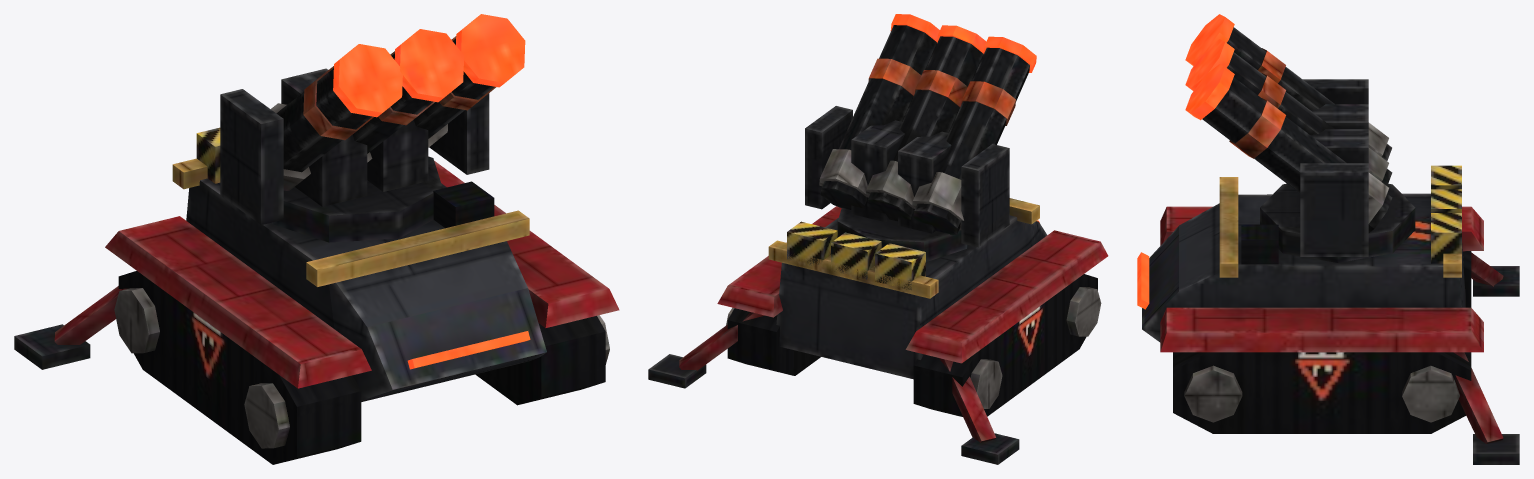
The model's file is u_mortar3_e.glb.
3 views of the same model, side by side, from view 1: azimuth 30°, elevation 25°; view 2: azimuth 150°, elevation 25°; view 3: azimuth 270°, elevation 25° (orthographic). The views are drawn at different scales.
Parts seen in each view (by area): view 1: u_mortar3_e; view 2: u_mortar3_e; view 3: u_mortar3_e.
Boxes of the visible parts, box(x1,y1,x2,y2) form: u_mortar3_e: box(14, 14, 619, 464); u_mortar3_e: box(648, 14, 1108, 464); u_mortar3_e: box(1137, 14, 1519, 464).
Bounding box in the file's own units: 1.68 × 1.37 × 1.45.
Materials: 1 (1 with a texture image).
